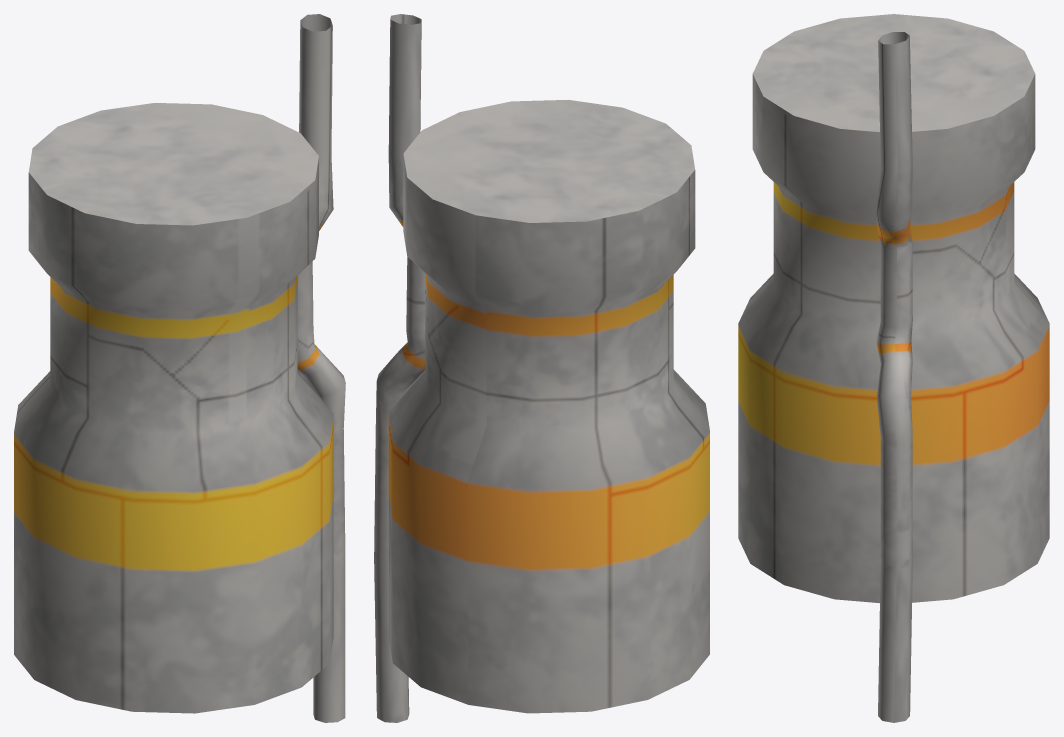
File: Crev_04.fbx
3 views of the same model, side by side, from view 1: azimuth 30°, elevation 25°; view 2: azimuth 150°, elevation 25°; view 3: azimuth 270°, elevation 25° (orthographic). The views are drawn at different scales.
Parts seen in each view (by area): view 1: Crev_04; view 2: Crev_04; view 3: Crev_04.
Part boxes in pixels (bbox=[...]): Crev_04: bbox=[14, 14, 345, 722]; Crev_04: bbox=[374, 14, 709, 722]; Crev_04: bbox=[738, 14, 1049, 722].
Size of the model in its own units: 33.73 by 72.43 by 30.28.
